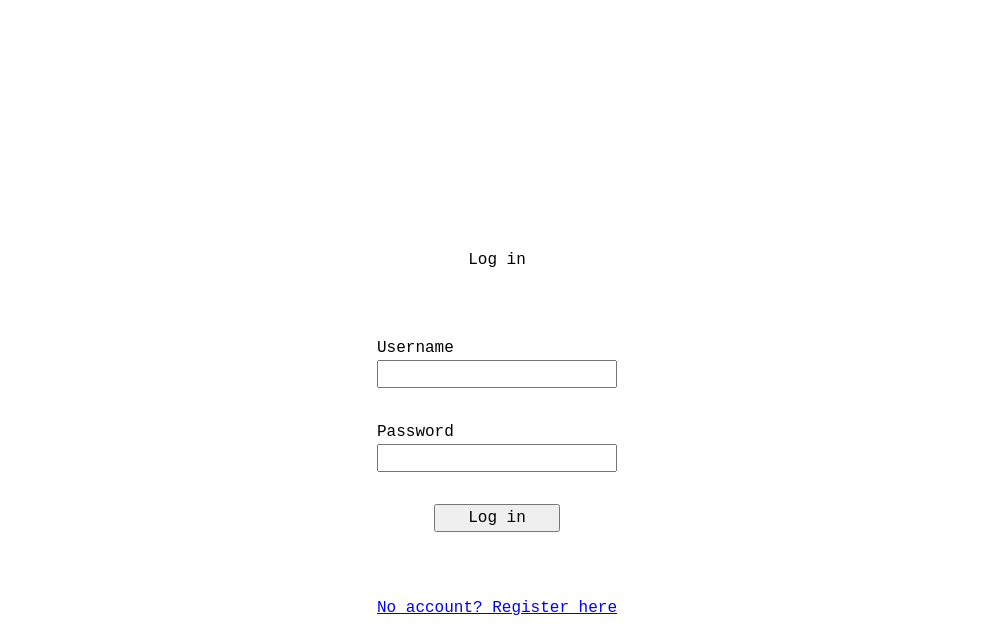
Scenario: Login component › will not submit without all required fields
Click the button "Log in" at (497, 518), box 434,504 -> 560,532
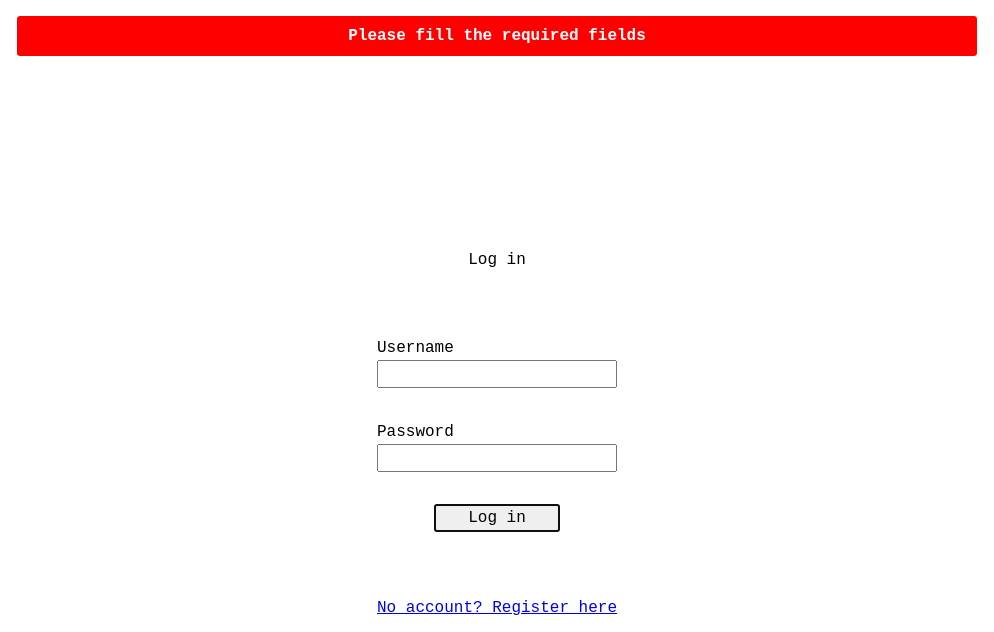
Now the text "Please fill the required fields" is shown, box 17,16 -> 977,56
